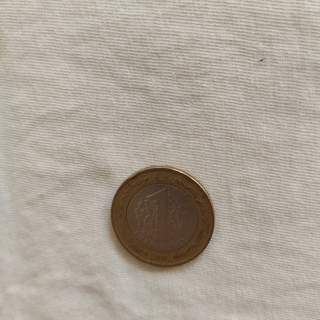1TL: (108, 163, 216, 268)
